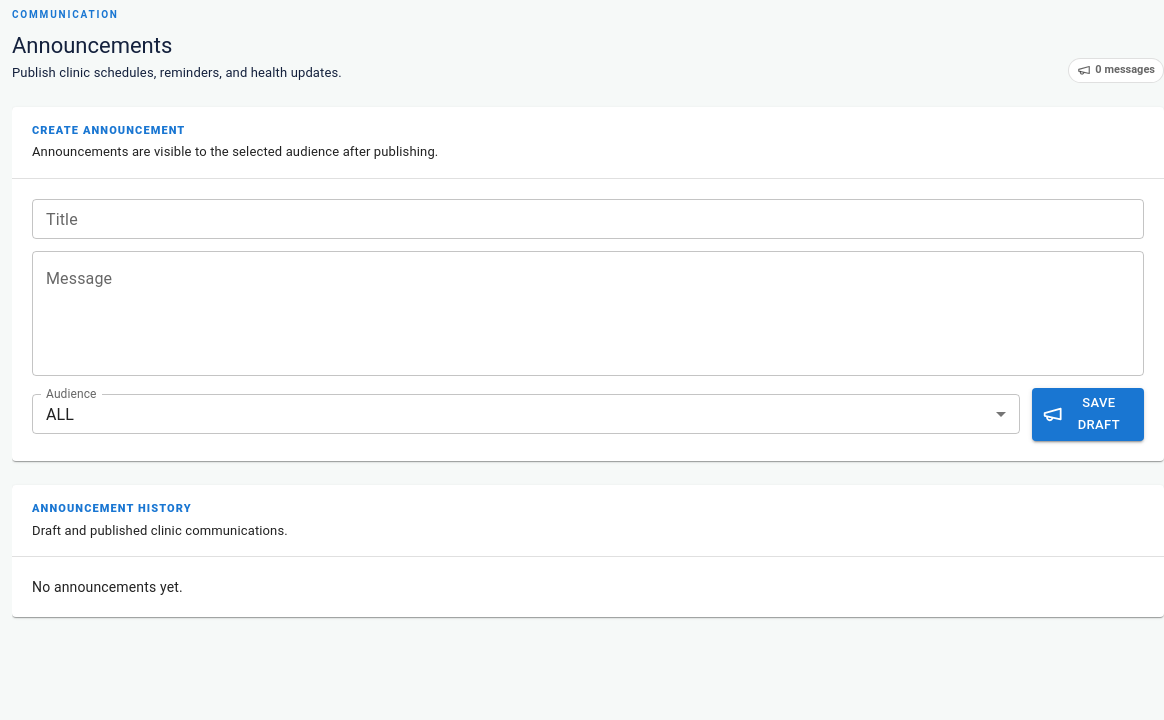
AnnouncementsPage staff workflow › creates a staff announcement draft with the selected audience
Expected: the text "No announcements yet." is shown, [32, 579, 183, 595]
Type "Clinic closed" into the field labelled "Title". click: (588, 219)
box: [32, 199, 1144, 239]
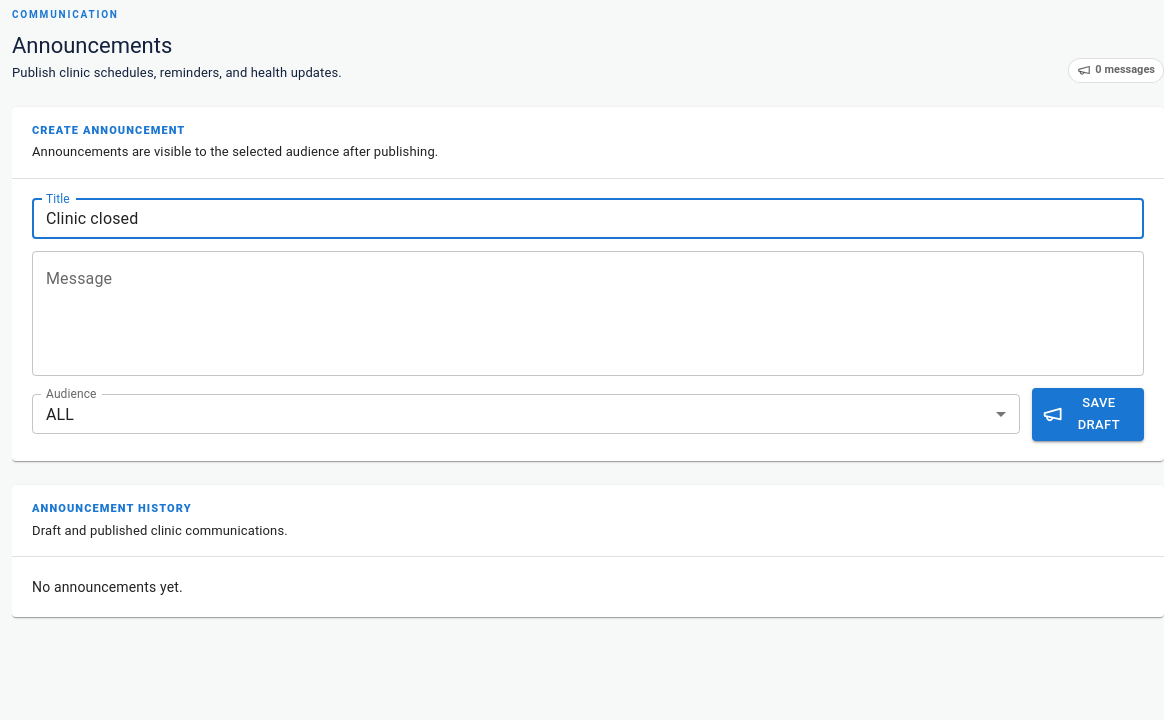
Type "Closed this afternoon." into the text box labelled "Message". click: (588, 313)
box: [46, 267, 1130, 359]
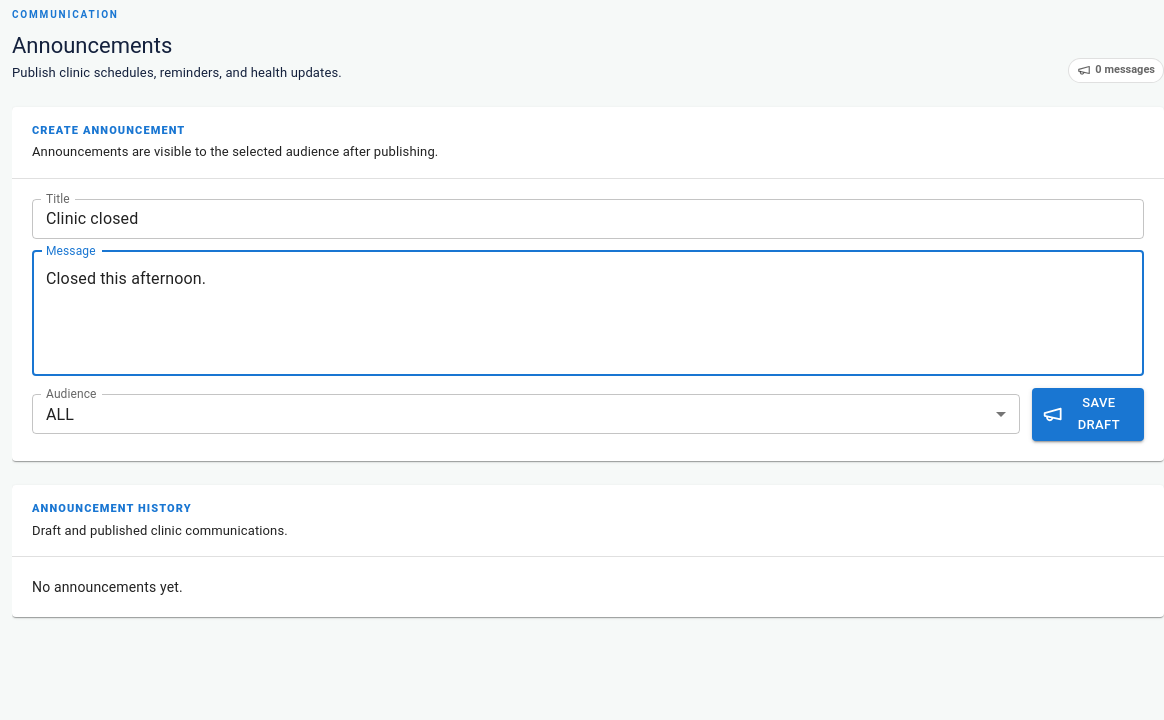
Click the dropdown named "Audience". click: (60, 414)
box: [46, 405, 74, 424]
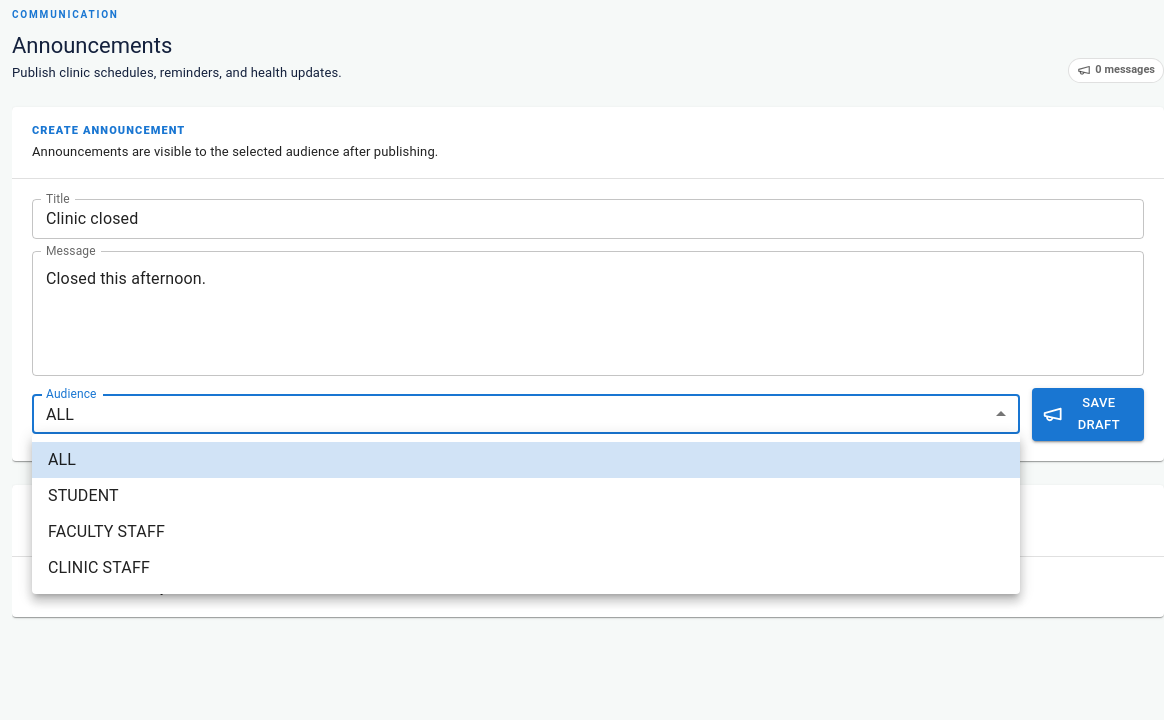
Click the option "STUDENT". click: (83, 496)
box: [48, 486, 119, 505]
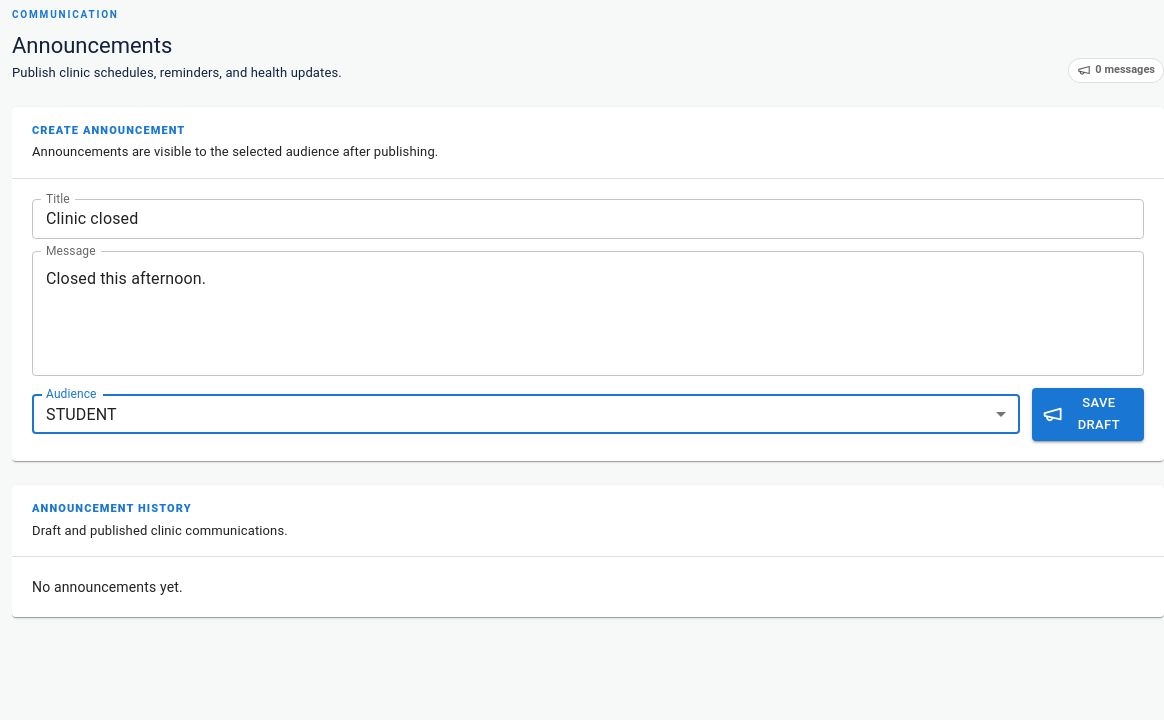
Click the button "Save draft". click: (1088, 414)
box: [1032, 388, 1144, 441]
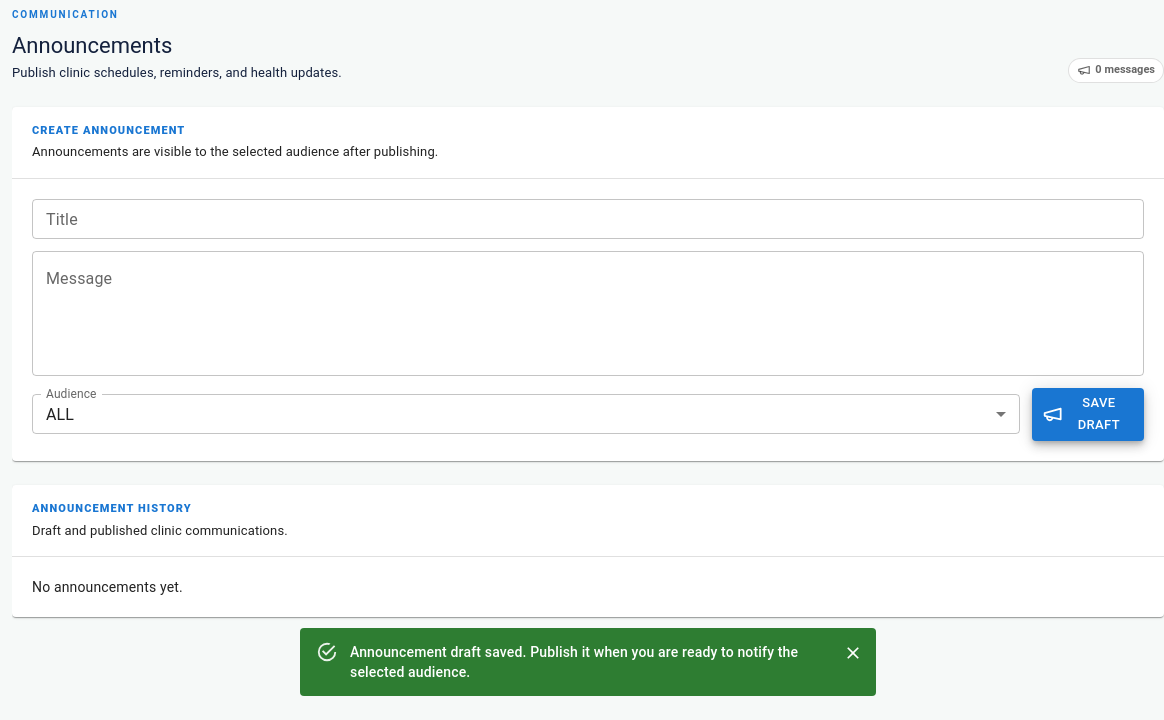
Expected: the message shows "Announcement draft saved", [350, 644, 798, 680]
